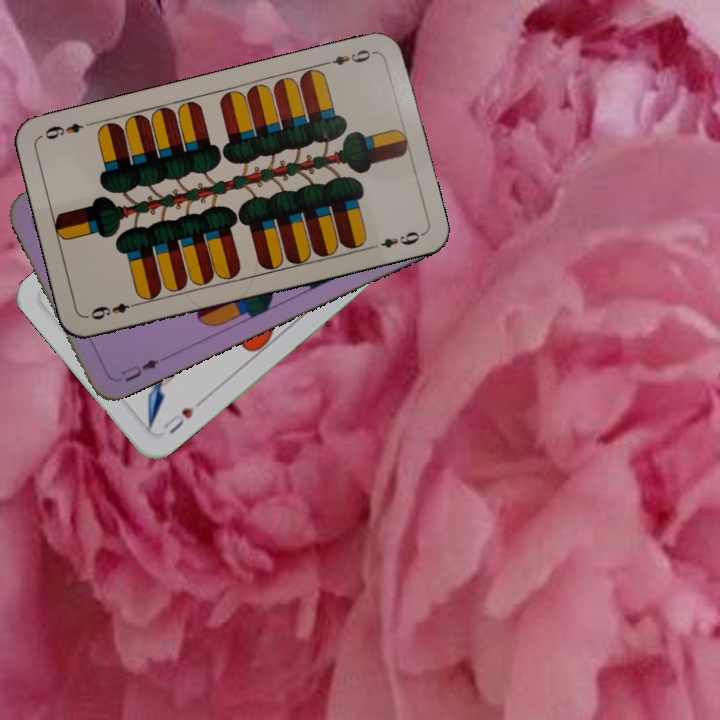E9: (84, 298, 142, 323), (320, 45, 378, 68)
EU: (117, 355, 162, 385)
HU: (157, 403, 197, 438)
